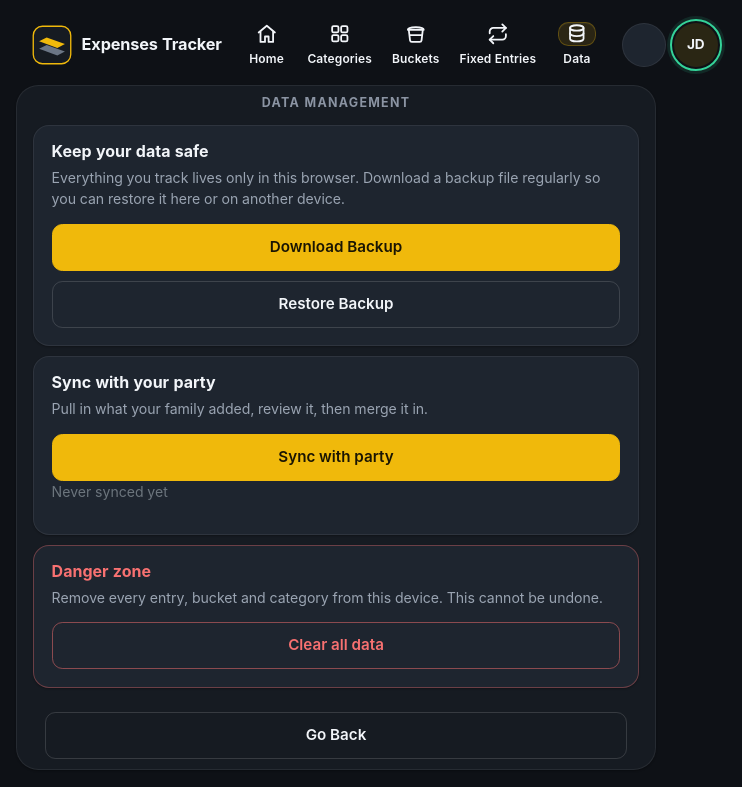
review upload failures › EC-2: a mid-review version bump conflicts on upload; Sync again restarts fresh
Click the button "Sync with party".
click(336, 457)  # box top-left (52, 434), bottom-right (620, 481)
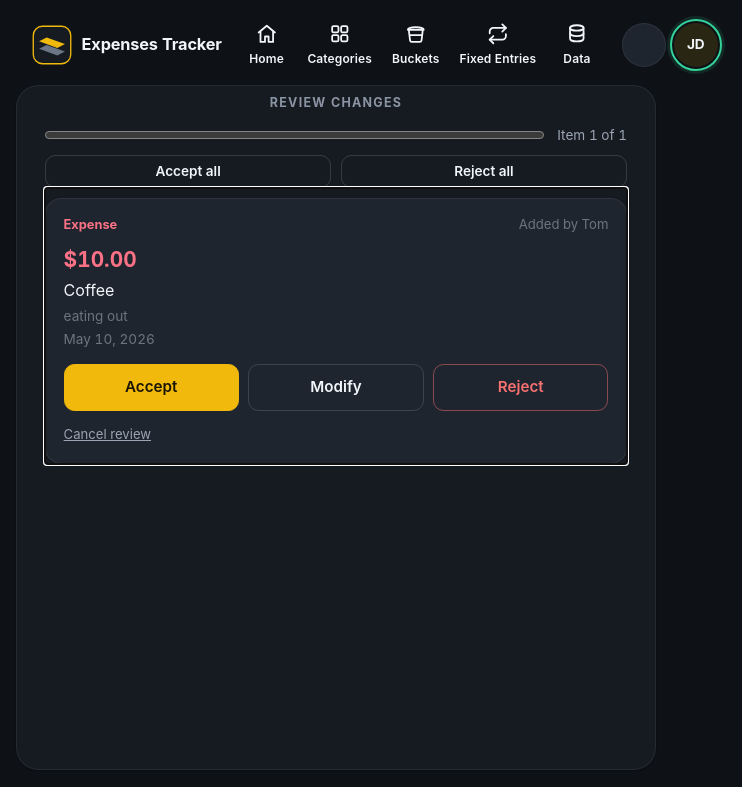
Expected: the text "Item 1 of 1" is shown, top-left (557, 125), bottom-right (627, 146)
Click the button with aria-label "Accept $10".
click(151, 388)  # box top-left (64, 364), bottom-right (239, 411)
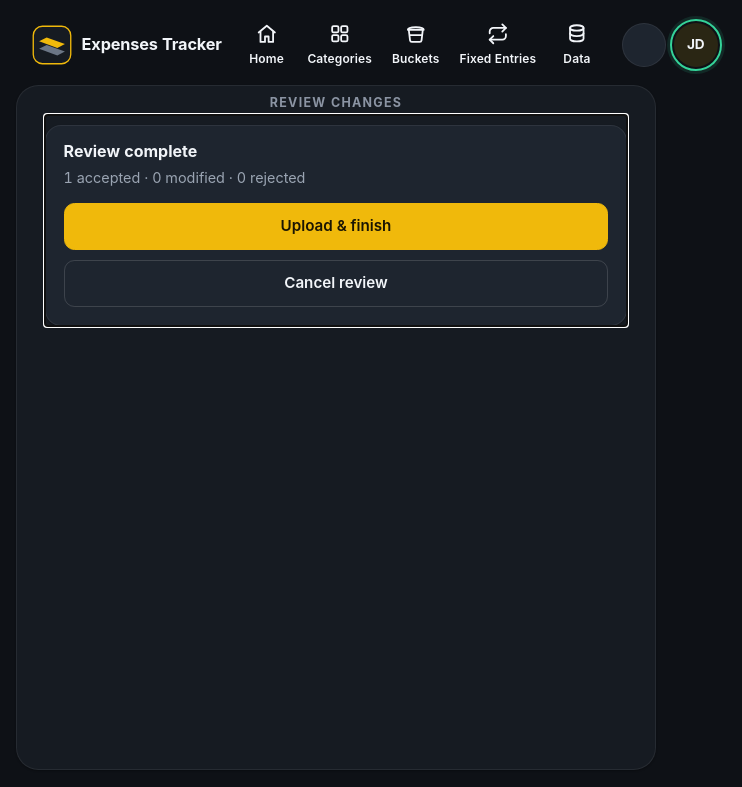
Click the button "Upload & finish".
click(336, 226)  # box top-left (64, 203), bottom-right (608, 250)
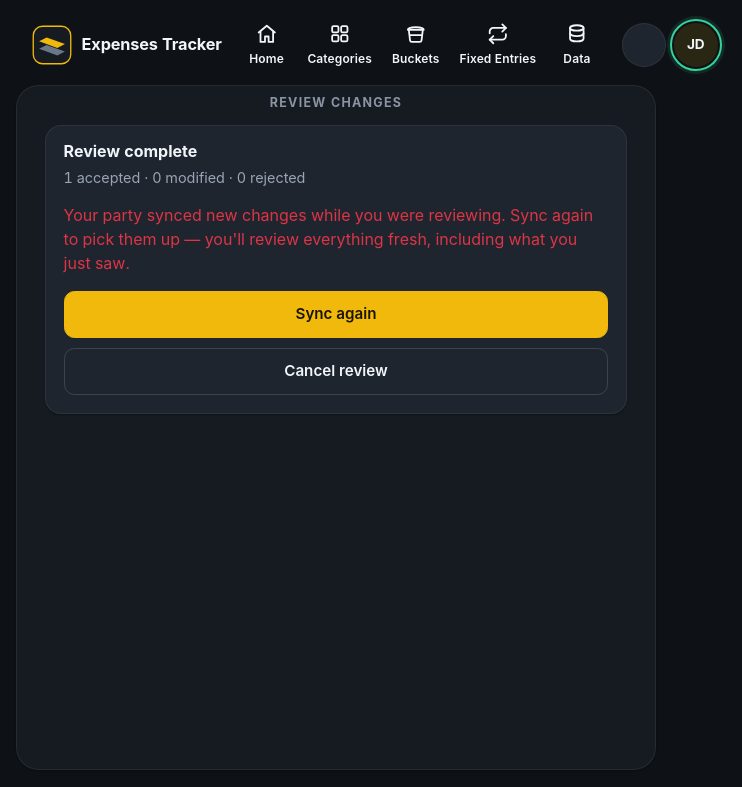
Expected: the message shows "Your party synced new changes while you were reviewing. Sync again to pick them up — you'll review everything fresh, including what you just saw.", top-left (64, 205), bottom-right (593, 273)
Click the button "Sync again".
click(336, 314)  # box top-left (64, 291), bottom-right (608, 338)
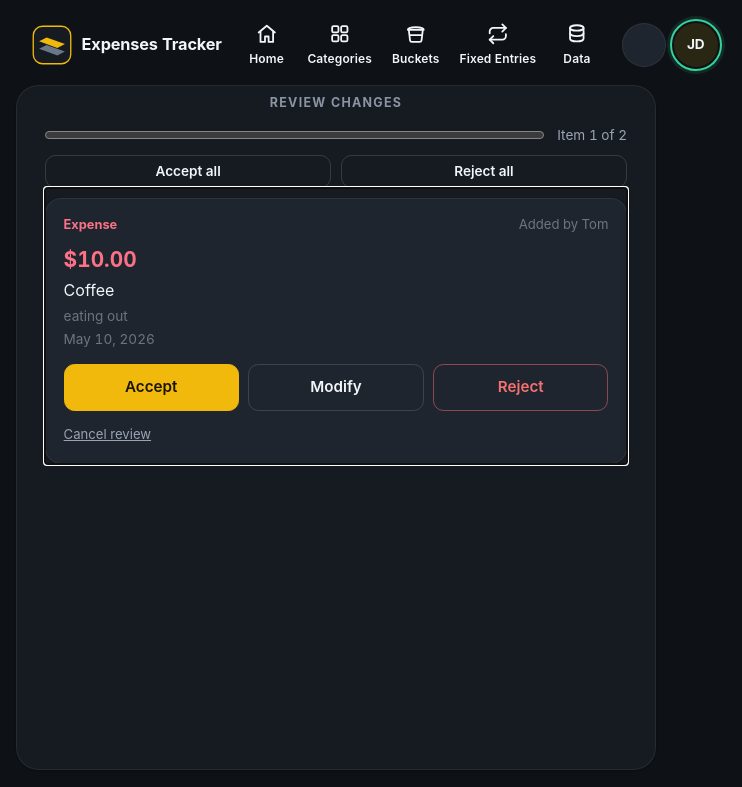
Expected: the text "Item 1 of 2" is shown, top-left (557, 125), bottom-right (627, 146)
Expected: the text "Coffee" is shown, top-left (64, 280), bottom-right (114, 300)
